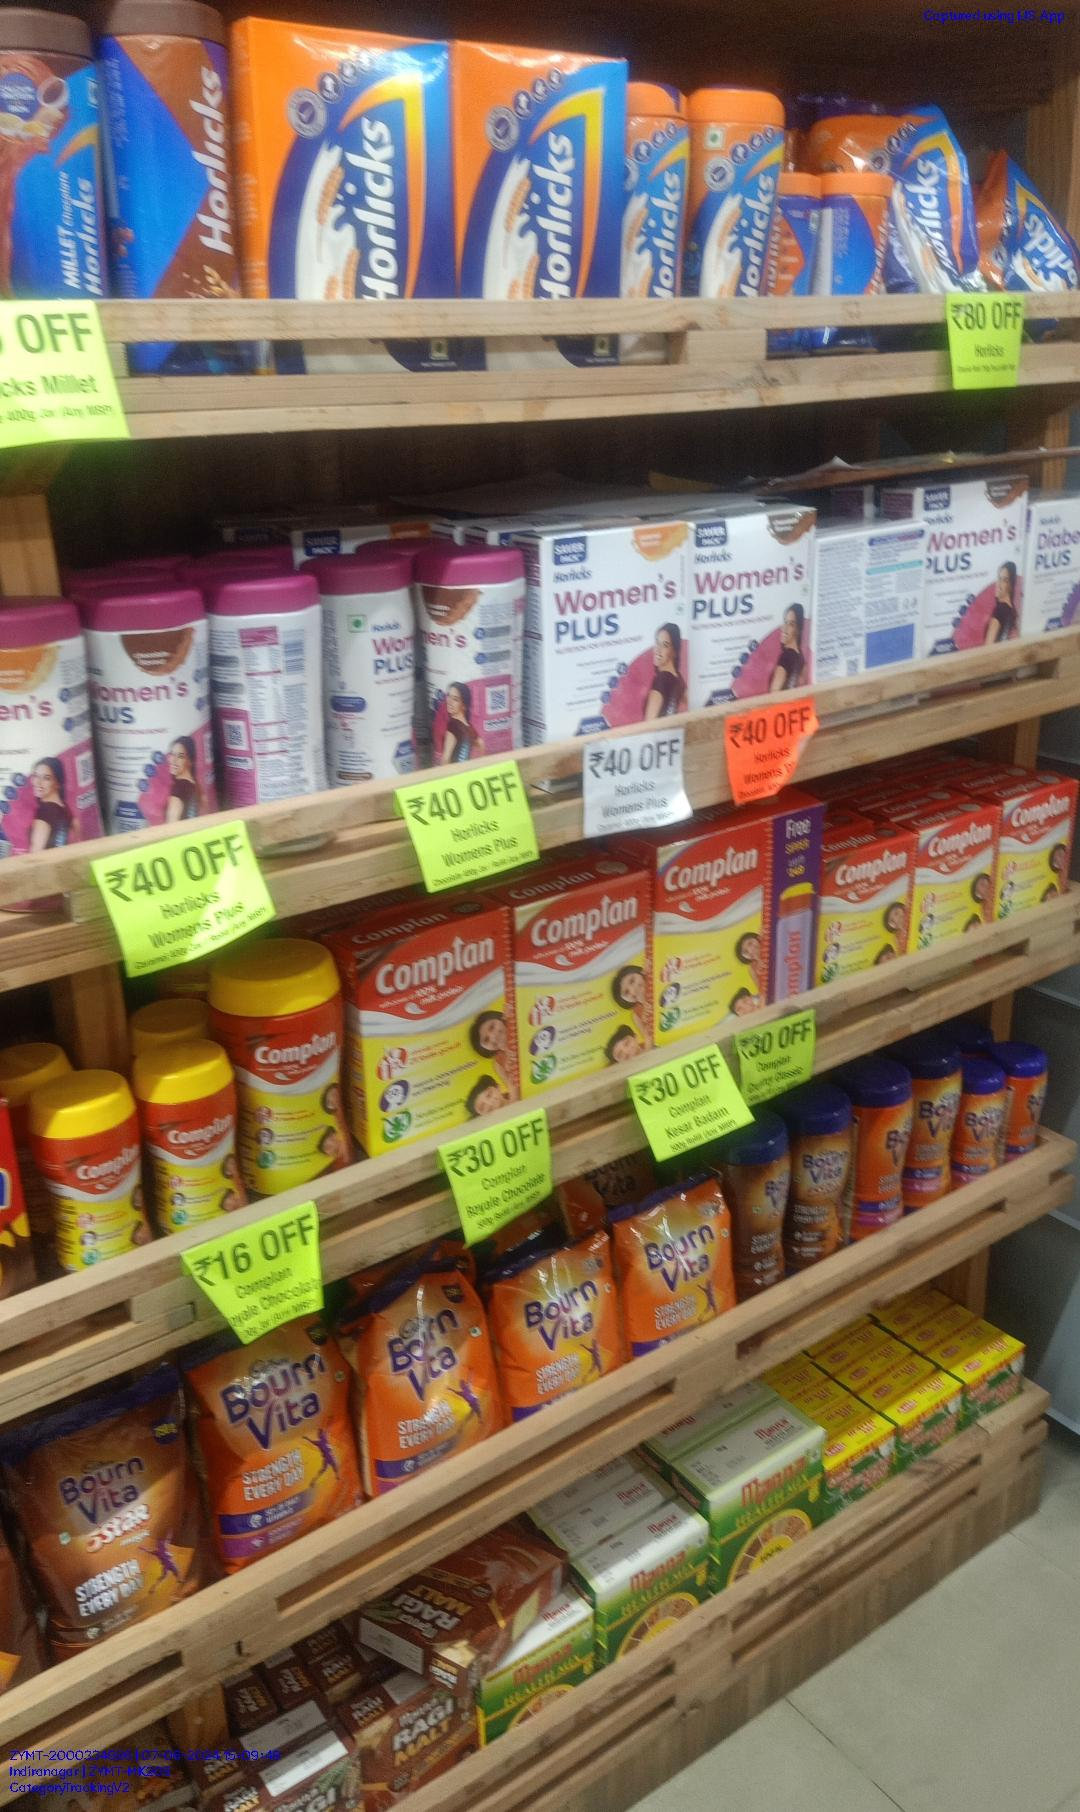BOURN_VITA_FIVE_STAR_MAGIC_500_G_JAR: (791, 1112, 850, 1275), (735, 1126, 788, 1295)
COMPLAN_CHOCOLATE_200_GMS_JAR: (36, 1100, 141, 1263), (141, 1059, 244, 1222)
COMPLAN_CHOCOLATE_500_GMS_JAR: (248, 946, 339, 1191)
HORLICK_CLASSIC_MALT_500_G_JAR: (684, 102, 783, 308), (622, 89, 690, 320)
HORLICK_CLASSIC_MALT_500_G_PACK: (253, 28, 456, 334), (455, 49, 626, 328)
